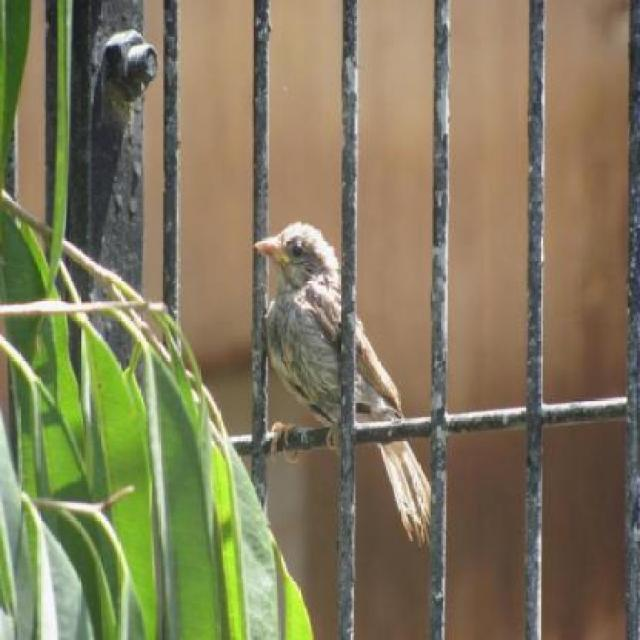Bird: (255, 211, 436, 543)
